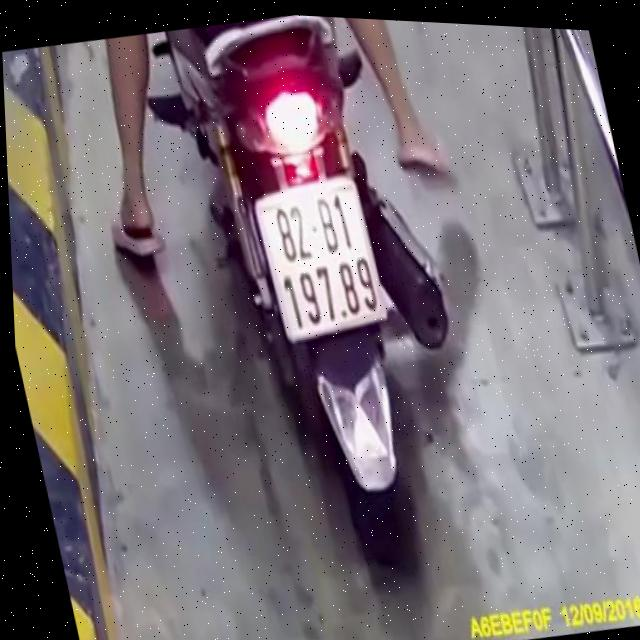motorcycle: (119, 6, 525, 604)
plate: (239, 167, 408, 350)
